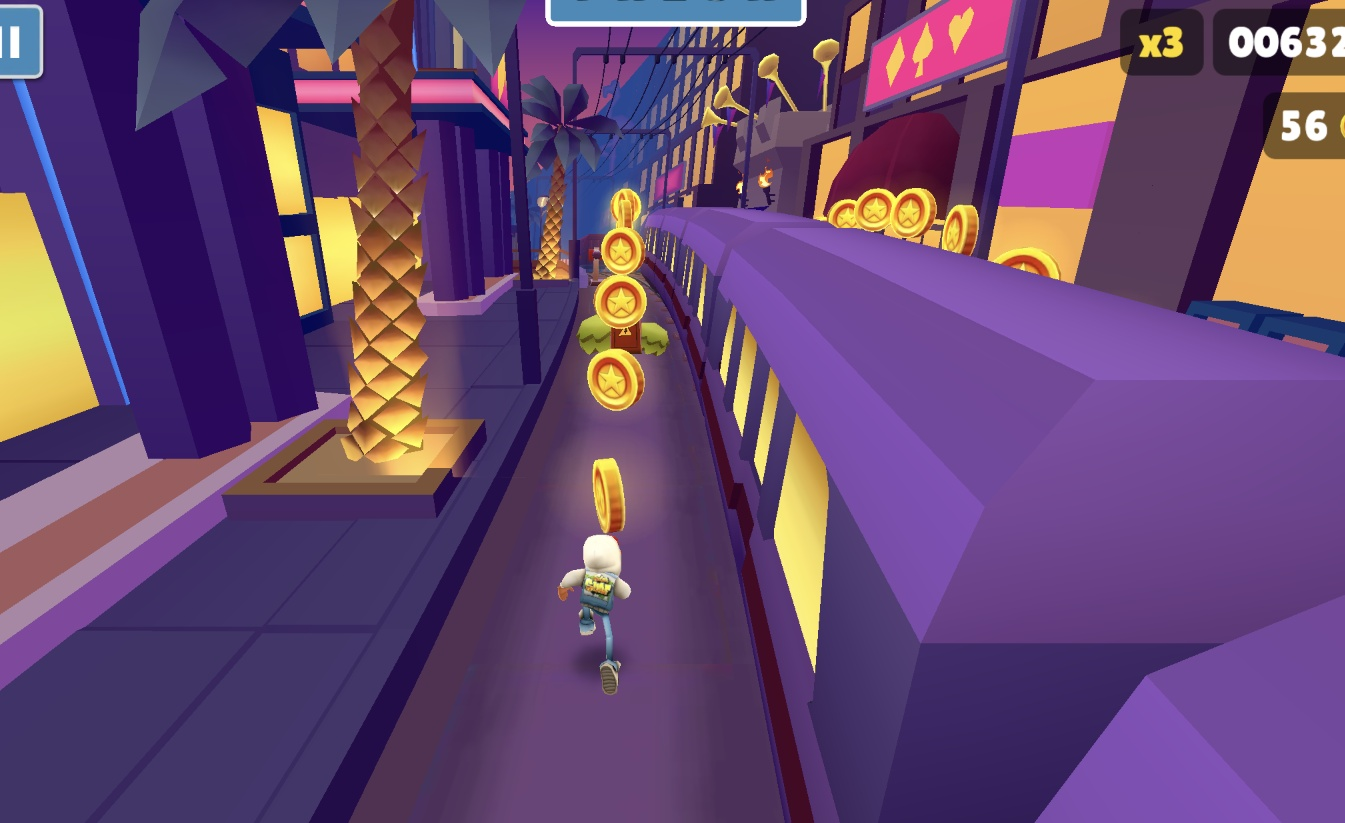bush: (575, 314, 608, 358), (639, 322, 669, 357)
ground_barrier: (574, 249, 604, 283)
small_obstacle: (608, 315, 639, 351)
train: (642, 206, 1344, 823)
